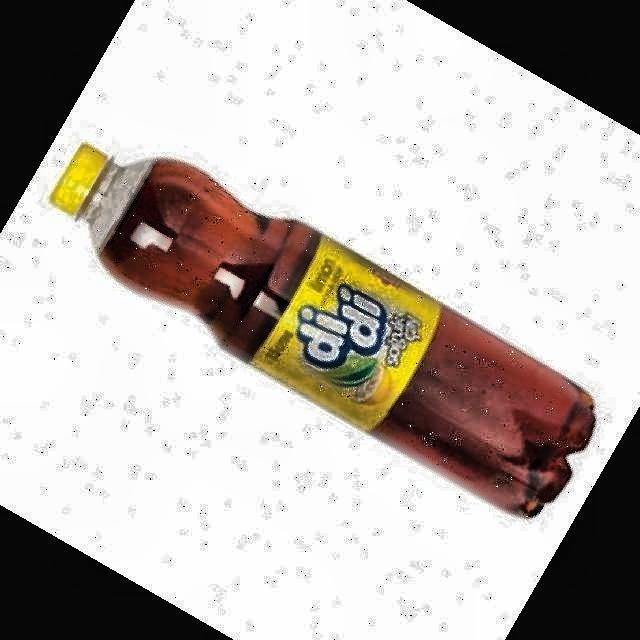plastic: (51, 144, 595, 517)
